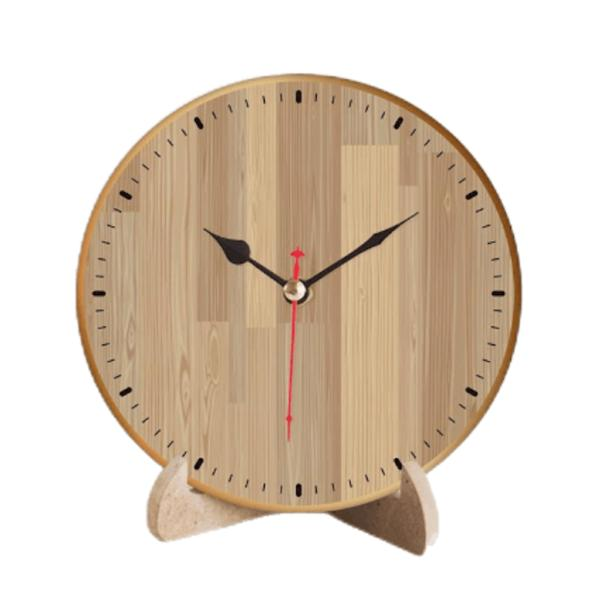Jam: (78, 76, 522, 509)
